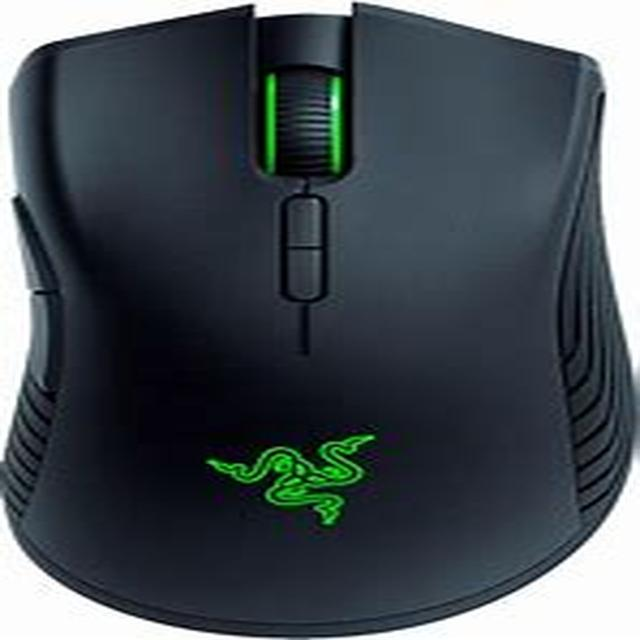mouse: (29, 27, 588, 622)
